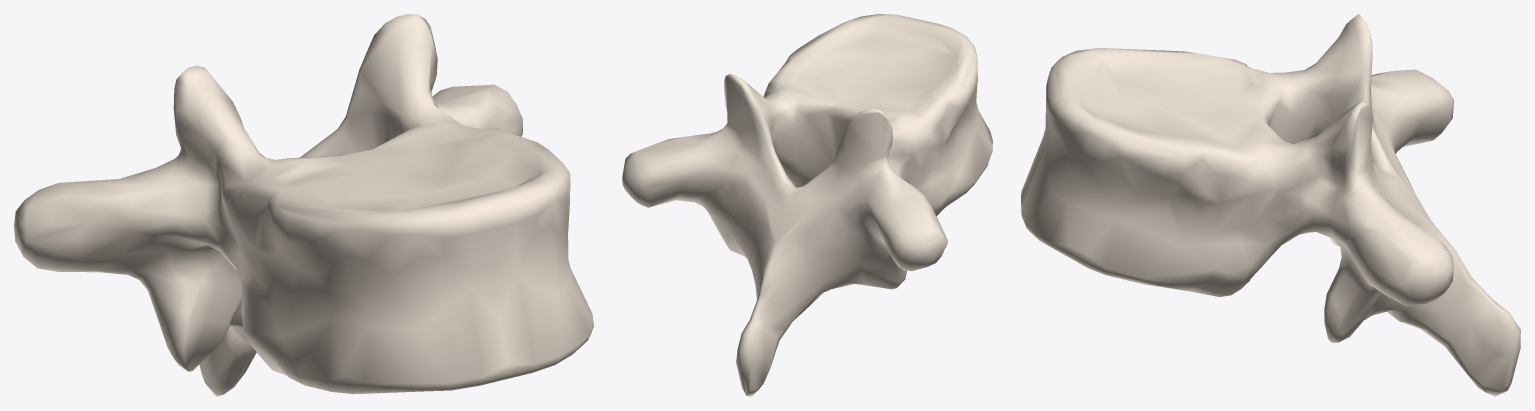
3 views of the same model, side by side, from view 1: azimuth 30°, elevation 25°; view 2: azimuth 150°, elevation 25°; view 3: azimuth 270°, elevation 25° (orthographic). The views are drawn at different scales.
Visible parts, largest first — view 1: Thoracic vertebrae (T9); view 2: Thoracic vertebrae (T9); view 3: Thoracic vertebrae (T9).
Part boxes in pixels (<box>): Thoracic vertebrae (T9): <box>14,14,593,396</box>; Thoracic vertebrae (T9): <box>622,14,992,396</box>; Thoracic vertebrae (T9): <box>1021,14,1520,396</box>.
Size of the model in its own units: 0.0705 by 0.0561 by 0.0752.
